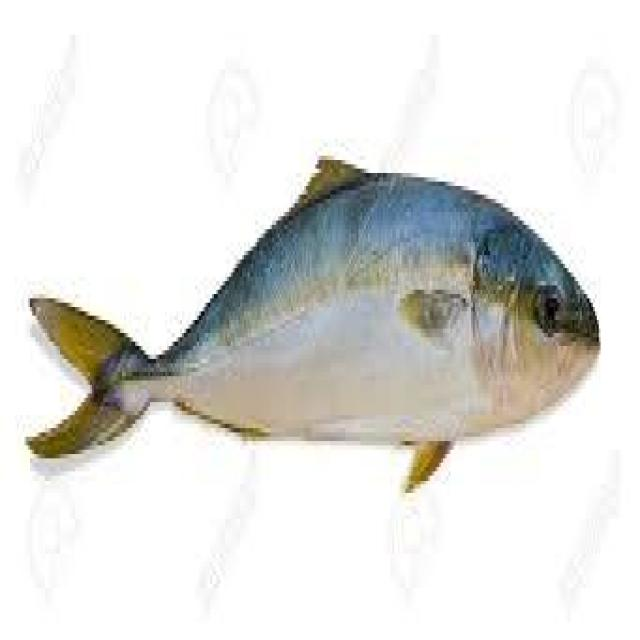Kingfish: (24, 147, 603, 494)
